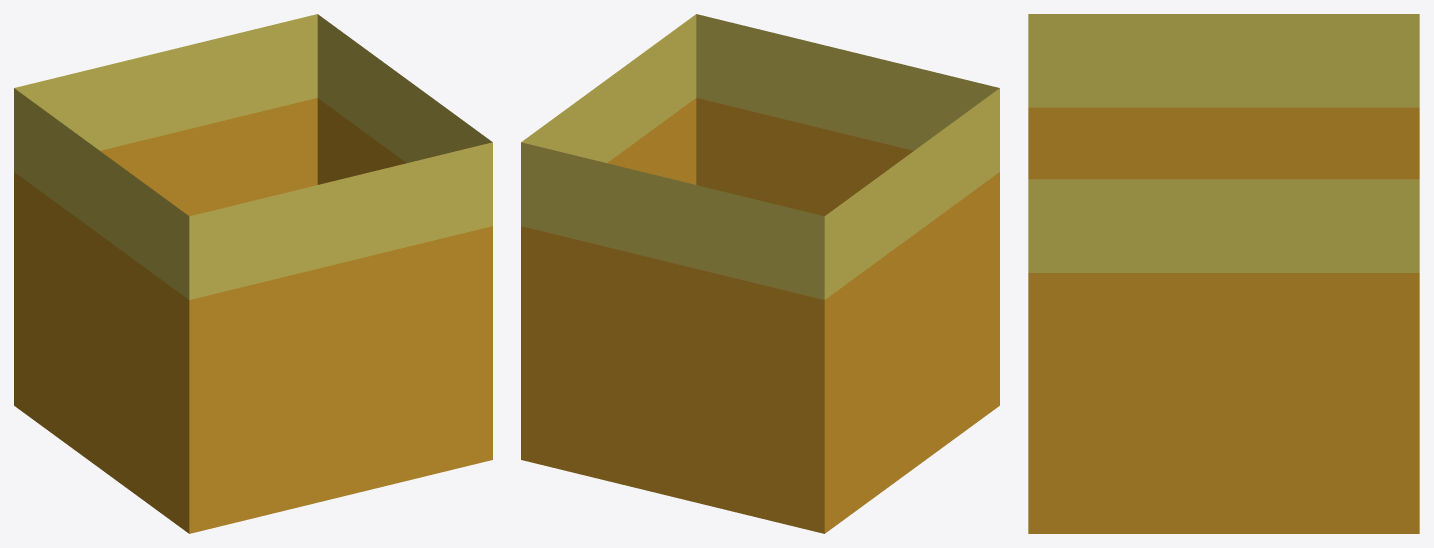
Rendered from Side.fbx.
The picture shows the model from 3 angles, left to right: view 1: azimuth 30°, elevation 25°; view 2: azimuth 150°, elevation 25°; view 3: azimuth 270°, elevation 25°; orthographic projection. The views are drawn at different scales.
Visible parts, largest first — view 1: Side0; view 2: Side0; view 3: Side0.
Boxes of the visible parts, box(x1,y1,x2,y2) form: Side0: box(14, 14, 492, 533); Side0: box(521, 14, 999, 533); Side0: box(1028, 14, 1419, 533).
Size of the model in its own units: 1 by 1 by 1.
